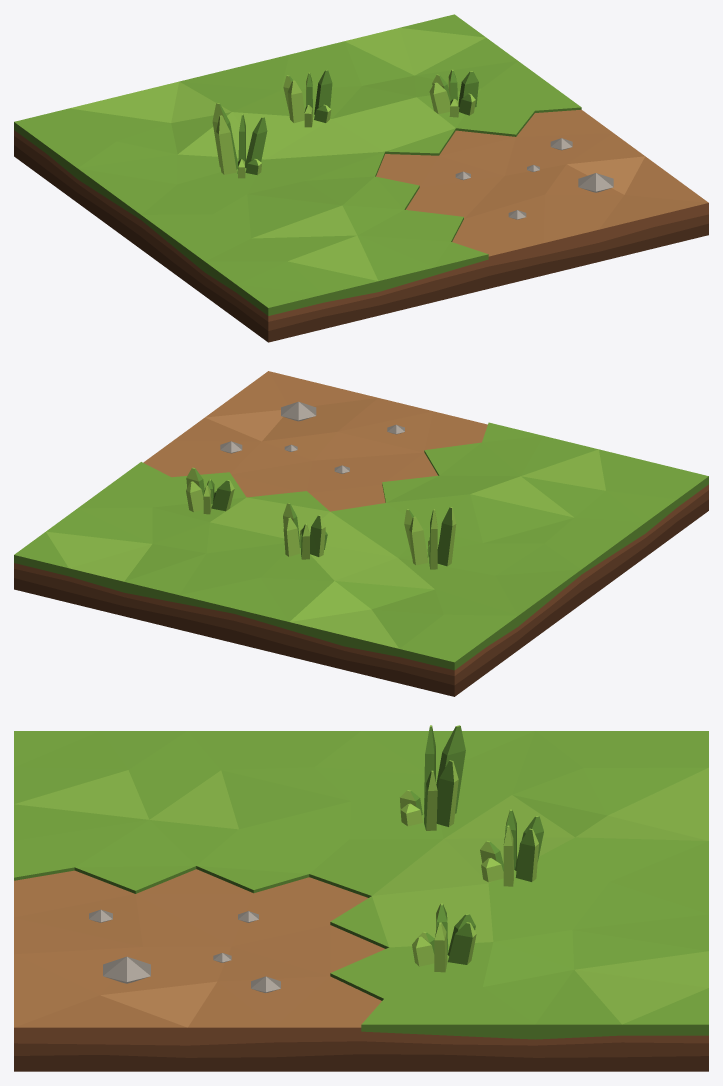
The model's file is FMS_Ground_Corner_In.fbx.
3 renders of one model, top to bottom at view 1: azimuth 30°, elevation 25°; view 2: azimuth 150°, elevation 25°; view 3: azimuth 270°, elevation 25°, orthographic. The views are drawn at different scales.
Visible parts, largest first — view 1: FMS_Ground_Corner_In; view 2: FMS_Ground_Corner_In; view 3: FMS_Ground_Corner_In.
Boxes of the visible parts, x1,y1,x2,y2 form: FMS_Ground_Corner_In: (14, 14, 708, 342); FMS_Ground_Corner_In: (14, 371, 708, 696); FMS_Ground_Corner_In: (14, 725, 708, 1071).
Size of the model in its own units: 4 by 0.8052 by 4.
